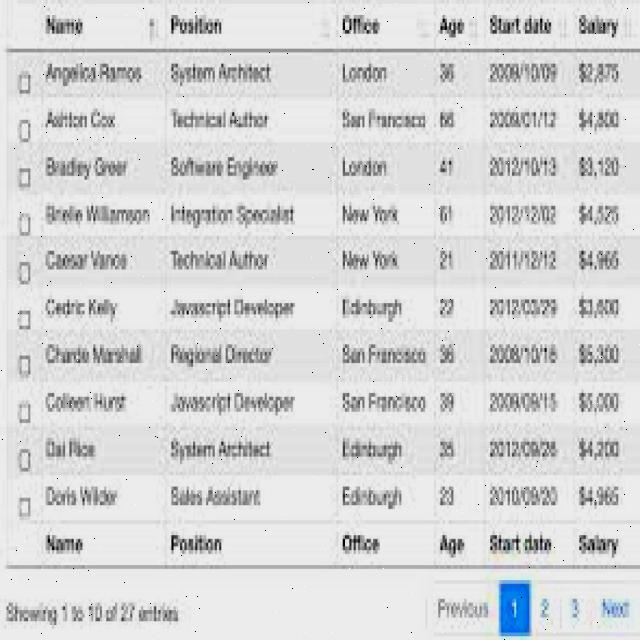button: (13, 6, 121, 42), (159, 5, 232, 50), (481, 523, 559, 565), (162, 524, 236, 566), (480, 6, 561, 42), (570, 522, 635, 562), (428, 586, 489, 622), (33, 526, 93, 562), (334, 524, 388, 562), (570, 10, 634, 42), (339, 10, 392, 44), (597, 586, 634, 625), (436, 525, 473, 562), (431, 9, 467, 40), (501, 576, 522, 624), (536, 590, 554, 622), (567, 594, 587, 622)
checkbox: (15, 70, 32, 96), (17, 118, 34, 144), (18, 259, 33, 287), (17, 211, 33, 237), (16, 166, 33, 190), (16, 402, 33, 426), (18, 354, 33, 380), (17, 448, 32, 474), (16, 308, 32, 332), (17, 497, 32, 518)
label: (167, 148, 293, 186), (164, 198, 299, 232), (164, 388, 301, 421), (165, 295, 300, 326), (169, 339, 280, 373), (42, 199, 158, 230), (165, 434, 278, 464), (42, 58, 147, 89), (165, 104, 278, 132), (166, 481, 264, 512), (42, 340, 148, 368), (40, 294, 125, 328), (336, 386, 428, 417), (166, 246, 275, 272), (41, 245, 135, 275), (339, 338, 429, 369), (42, 388, 132, 418), (165, 60, 274, 84), (40, 152, 131, 180), (40, 480, 124, 509), (338, 482, 411, 514), (339, 433, 404, 468), (486, 482, 561, 512), (485, 152, 559, 182), (486, 386, 560, 416), (486, 339, 562, 368), (486, 200, 558, 230), (485, 60, 561, 88), (483, 245, 561, 272), (486, 294, 560, 322), (338, 108, 428, 131), (486, 436, 562, 463), (41, 108, 125, 132), (40, 432, 106, 462), (573, 102, 630, 136), (339, 295, 405, 324), (570, 196, 624, 231), (573, 290, 625, 326), (486, 107, 560, 132), (570, 151, 625, 184), (337, 245, 405, 271), (575, 433, 629, 465), (333, 60, 395, 87), (338, 202, 401, 228), (573, 57, 627, 87), (574, 337, 622, 370), (338, 152, 396, 179), (575, 246, 625, 277), (575, 482, 626, 511), (575, 388, 621, 418), (434, 243, 463, 273), (436, 388, 460, 420), (435, 481, 459, 512), (433, 201, 459, 229), (435, 339, 460, 368), (435, 108, 465, 132), (436, 152, 458, 181), (436, 435, 459, 461), (434, 296, 458, 320), (435, 62, 458, 86)
